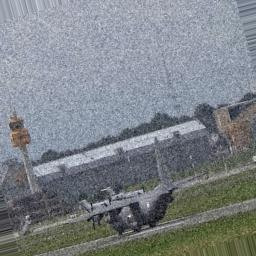Airplane: (64, 172, 203, 236)
